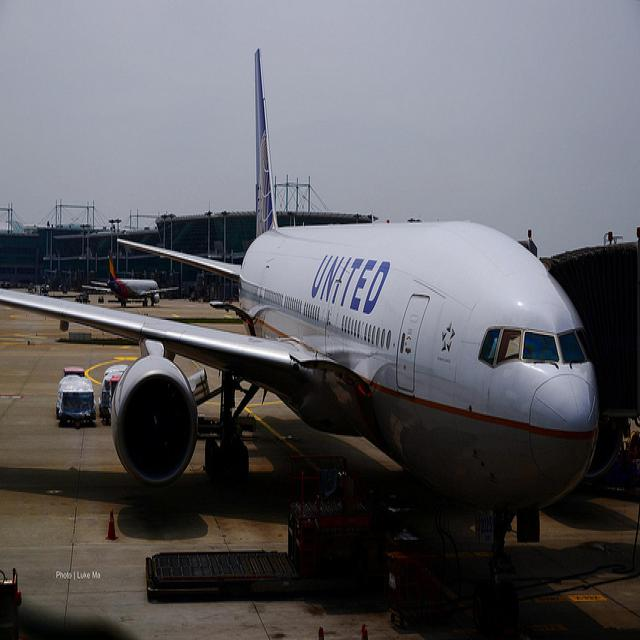Vehicle: (148, 470, 386, 600), (56, 364, 98, 424)
